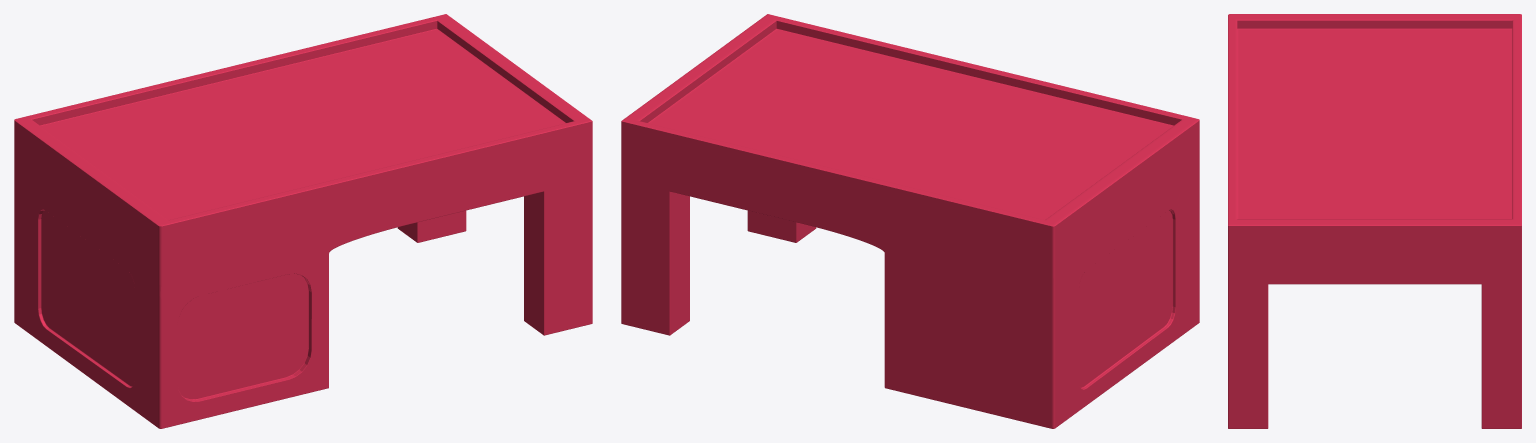
Rendered from Mesa_bar_mat.fbx.
3 renders of one model, left to right at view 1: azimuth 30°, elevation 25°; view 2: azimuth 150°, elevation 25°; view 3: azimuth 270°, elevation 25°, orthographic.
Visible parts, largest first — view 1: Cube, ventanas; view 2: Cube, ventanas; view 3: Cube.
Part boxes in pixels (x1=…): Cube: x1=14, y1=14, x2=592, y2=428; ventanas: x1=41, y1=210, x2=308, y2=399; Cube: x1=621, y1=14, x2=1199, y2=428; ventanas: x1=1079, y1=210, x2=1172, y2=387; Cube: x1=1228, y1=14, x2=1521, y2=428.
Size of the model in its own units: 341 by 153 by 200.
